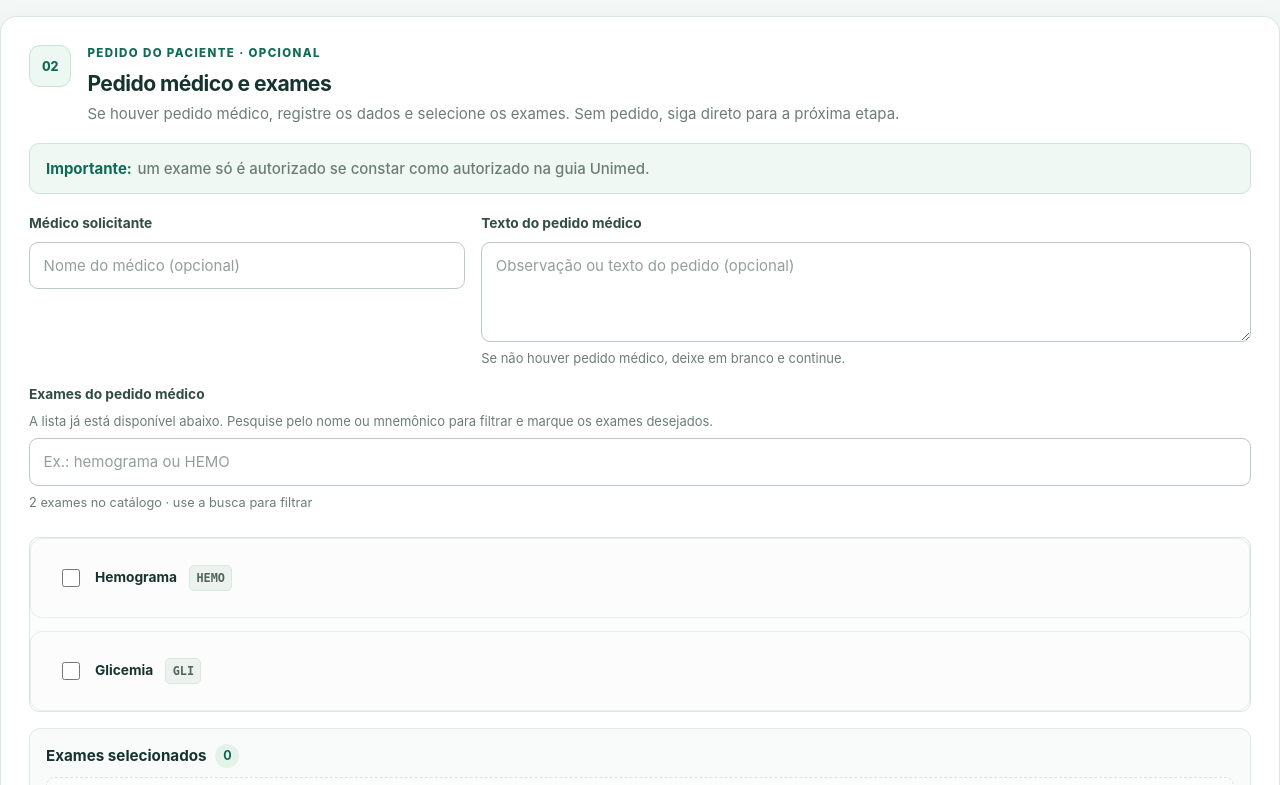
Test: pedido médico opcional › deixa o pedido opcional e mostra a lista com busca
Expected: the checkbox labelled "Hemograma HEMO" is shown, [62,569,80,587]
Expected: the checkbox labelled "Glicemia GLI" is shown, [62,662,80,680]
Type "hemo" into the search field labelled "Exames do pedido médico" at (640, 462), box [29,438,1251,486]
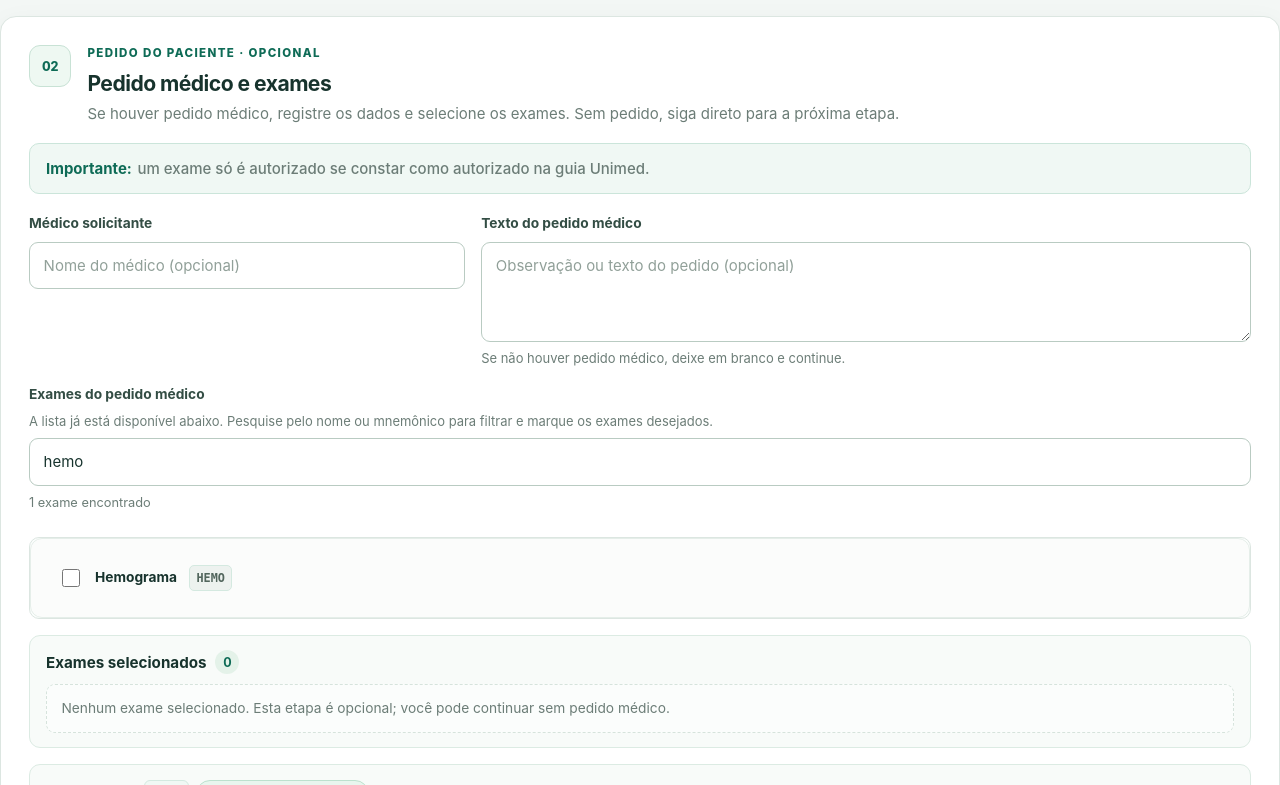
Expected: the label "Glicemia GLI" is gone
Click the checkbox labelled "Hemograma HEMO" at (71, 578), box [62,569,80,587]
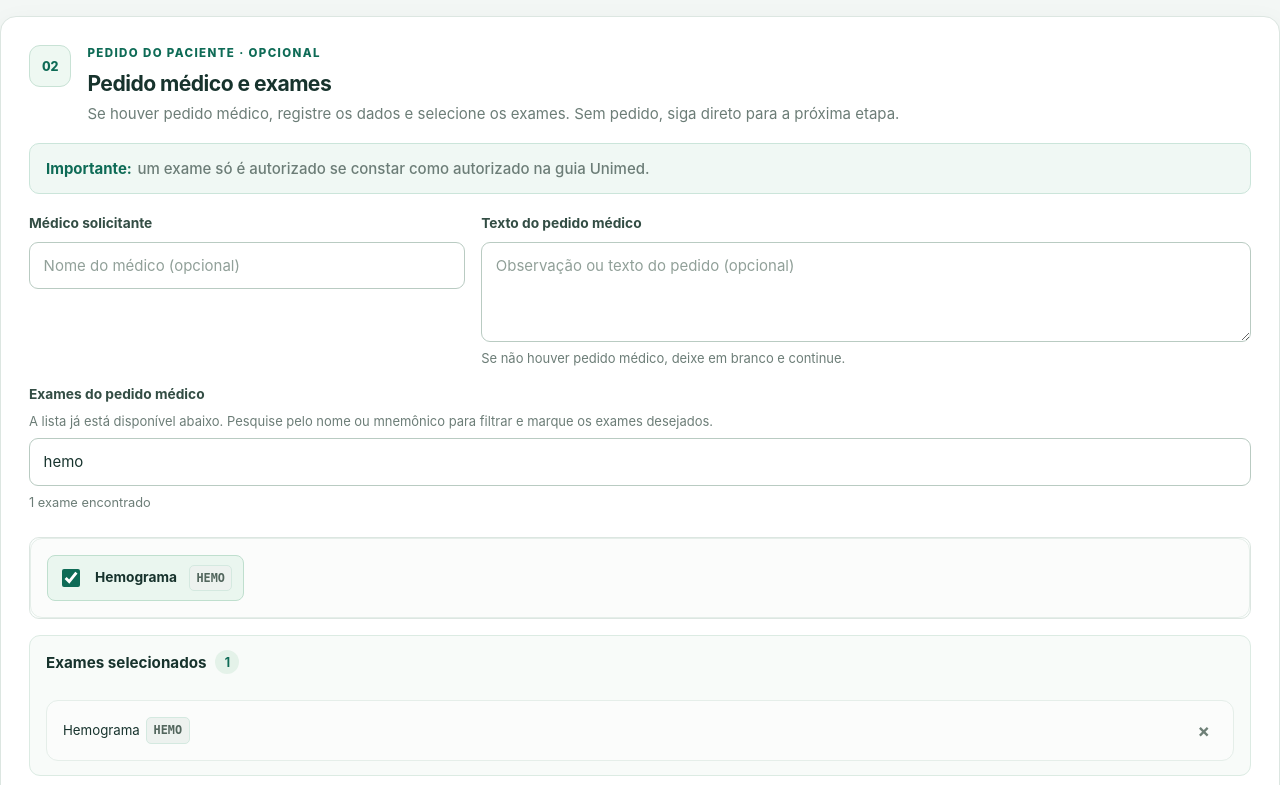
Expected: the text "só é autorizado se constar como autorizado na guia Unimed" is shown, [138,159,650,178]
Expected: the text "Hemograma" is shown, [63,722,140,738]
